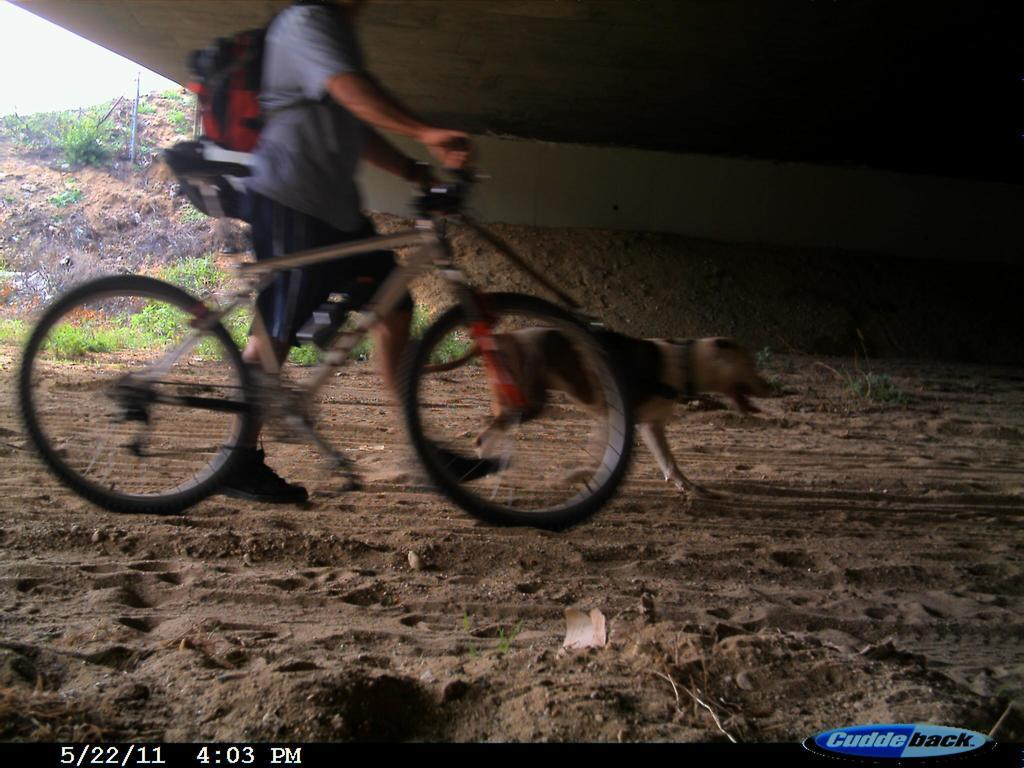dog: (437, 292, 789, 507)
